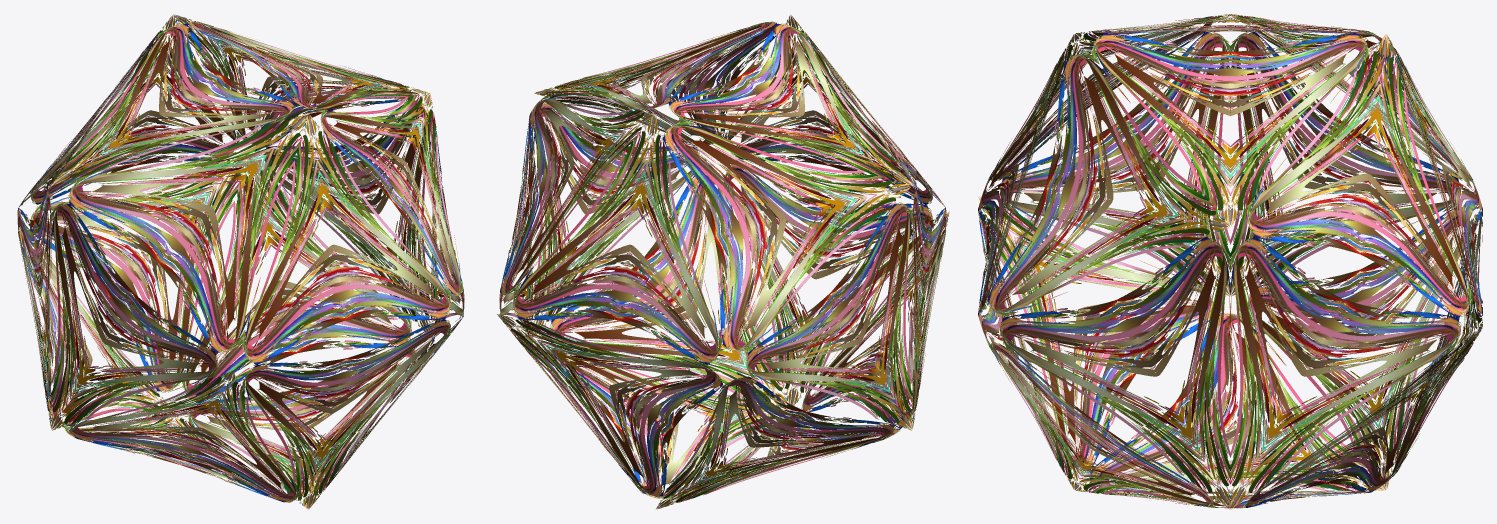
File: Icosahedron9.obj
The picture shows the model from 3 angles, left to right: view 1: azimuth 30°, elevation 25°; view 2: azimuth 150°, elevation 25°; view 3: azimuth 270°, elevation 25°; orthographic projection. The views are drawn at different scales.
Size of the model in its own units: 1.62 by 1.62 by 1.62.
1 material, 1 textured.
